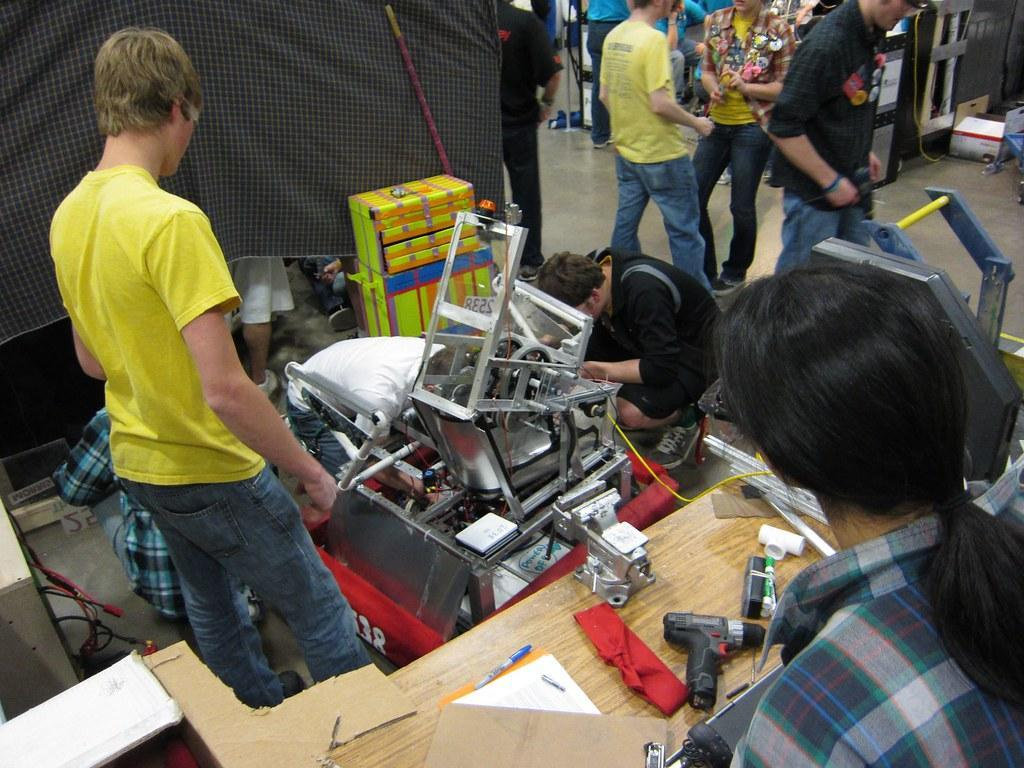robot: (299, 197, 693, 670)
